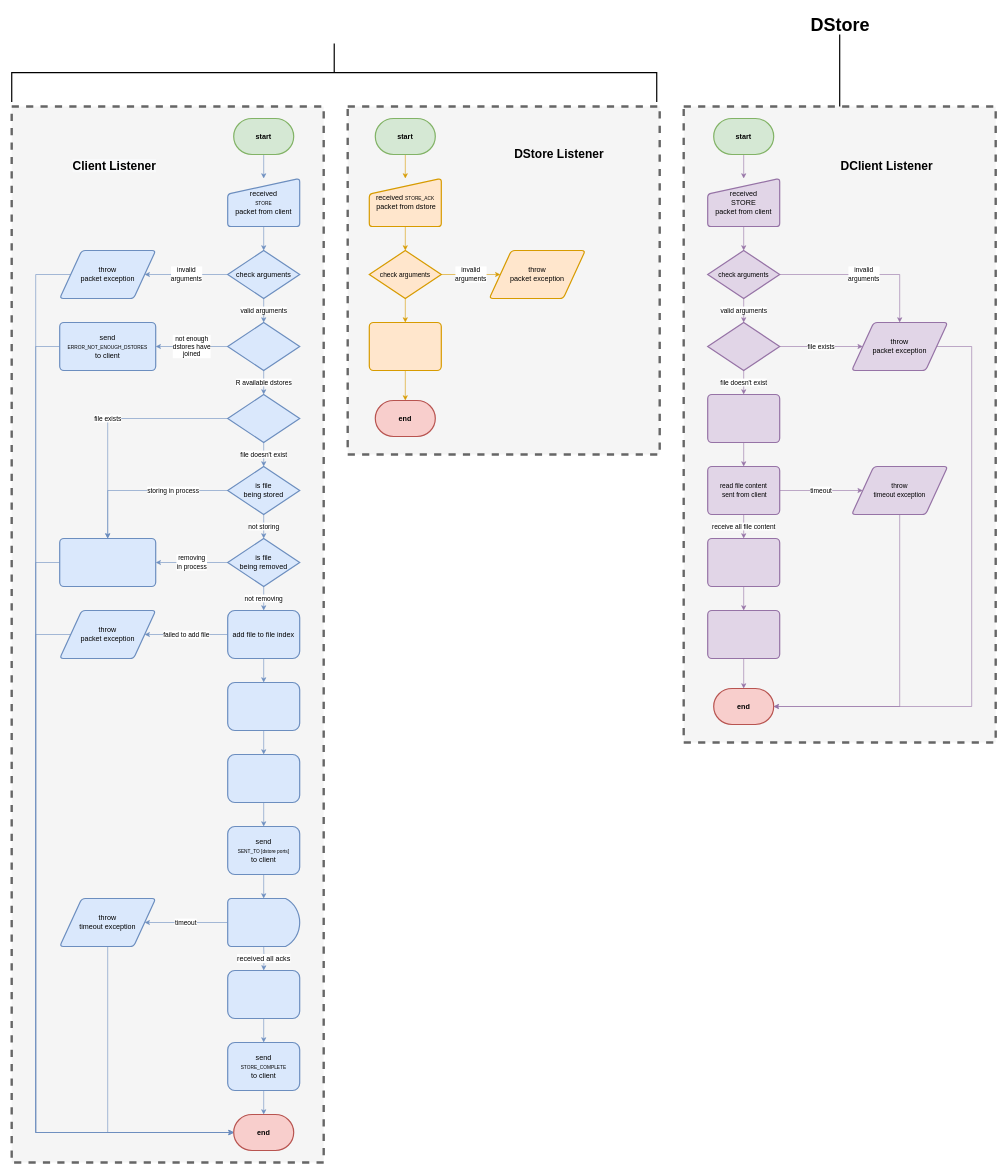
The diagram is 1007 pixels wide and 1174 high, and some of its shapes have lost their labels. The centre of each missing label's shape, as x and y in pixels:
check available dstores: (263,346)
check file exists in index: (263,418)
check if file already exists: (743,346)
Controller: (334,72)
get list of dstore client ports from the dstore listeners in the controller: (263,778)
increment store acks in file index: (405,346)
send ACK to client: (743,418)
send ERROR_FILE_ALREADY_EXISTS to client: (107,562)
send STORE_ACK to controller: (743,634)
set "storing in process " flag to false: (263,994)
set "storing in process " flag to true: (263,706)
wait to receive all store acks: (263,922)
write received content to new file: (743,562)
